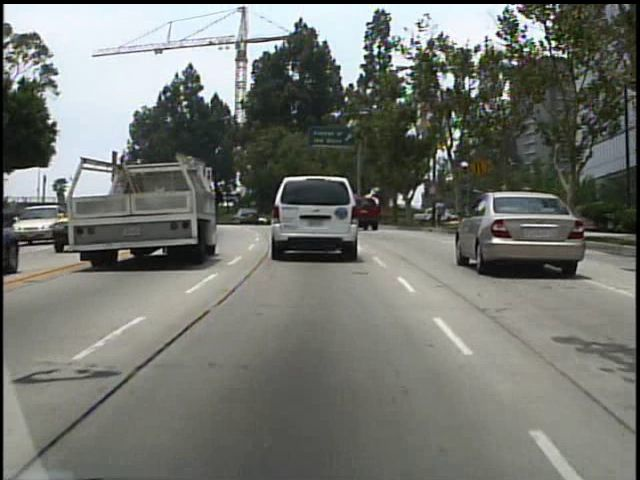person: (433, 195, 449, 233)
